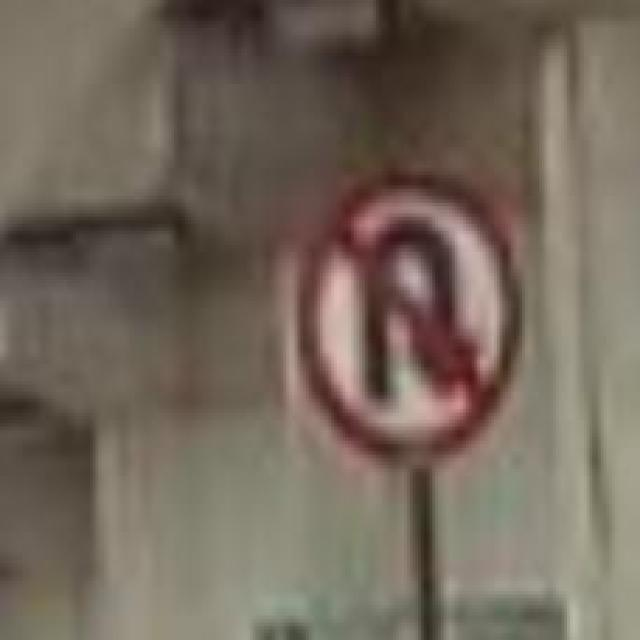traffic sign: (295, 171, 528, 468)
